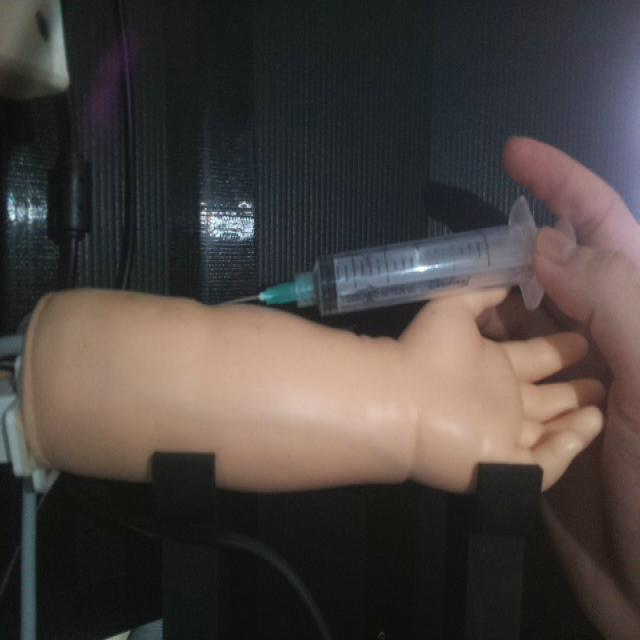Below 15 degrees: (224, 192, 548, 319)
